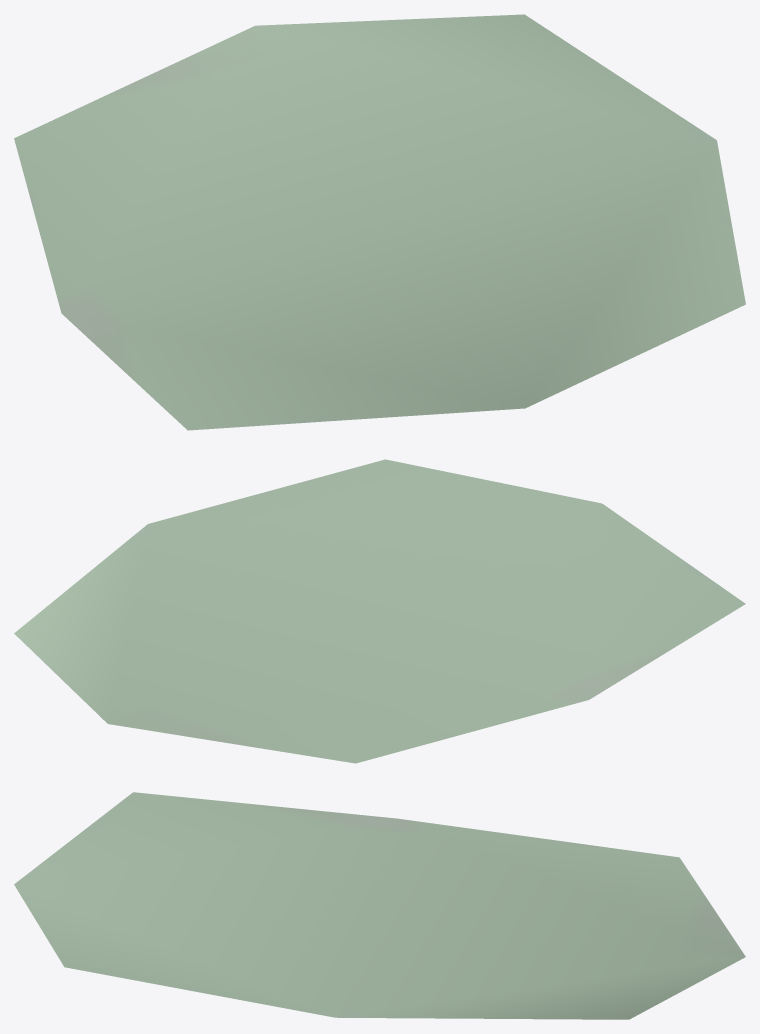
File: TROLLHOLE02_HOLECAP138.fbx
3 views of the same model, one above another, from view 1: azimuth 30°, elevation 25°; view 2: azimuth 150°, elevation 25°; view 3: azimuth 270°, elevation 25° (orthographic). The views are drawn at different scales.
Parts seen in each view (by area): view 1: TROLLHOLE02_HOLECAP138; view 2: TROLLHOLE02_HOLECAP138; view 3: TROLLHOLE02_HOLECAP138.
Part boxes in pixels (x1,y1,x2,y2): TROLLHOLE02_HOLECAP138: [14, 14, 745, 430]; TROLLHOLE02_HOLECAP138: [14, 459, 745, 763]; TROLLHOLE02_HOLECAP138: [14, 792, 745, 1019].
Bounding box in the file's own units: 20855 × 1558 × 25255.
1 material, 1 textured.
